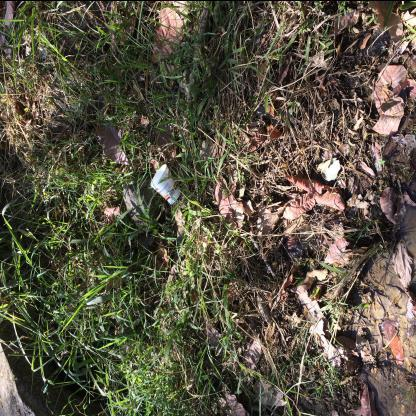karton: (152, 165, 183, 205)
